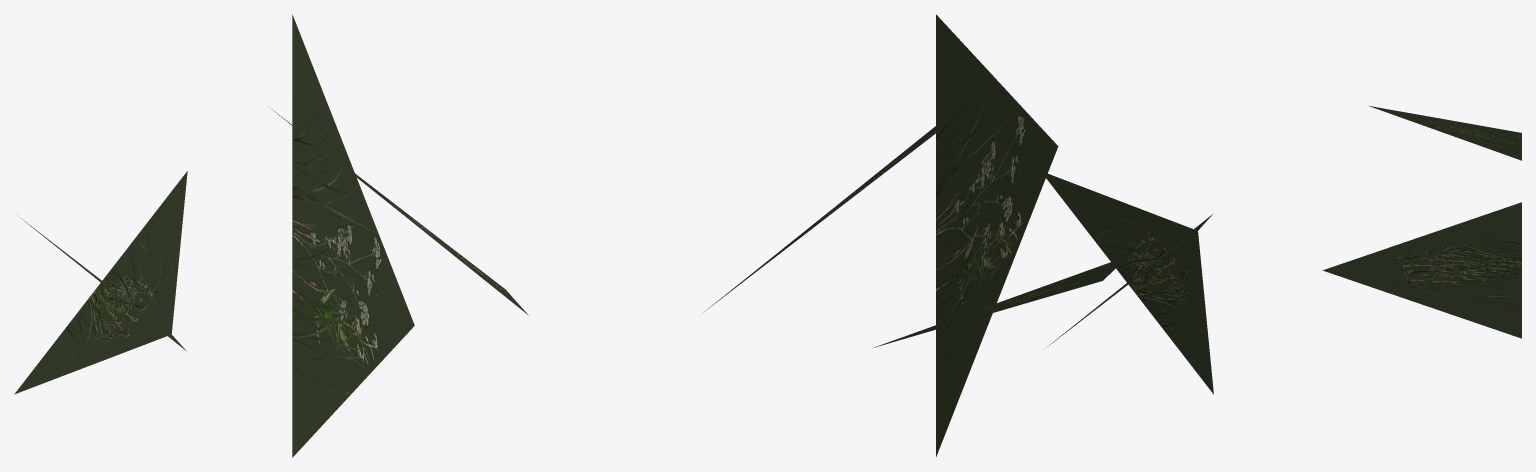
File: brush_grassflowerplants_triangularclump.glb
The picture shows the model from 3 angles, left to right: view 1: azimuth 30°, elevation 25°; view 2: azimuth 150°, elevation 25°; view 3: azimuth 270°, elevation 25°; orthographic projection. The views are drawn at different scales.
Size of the model in its own units: 78.18 by 56.61 by 35.04.
1 material, 1 textured.
